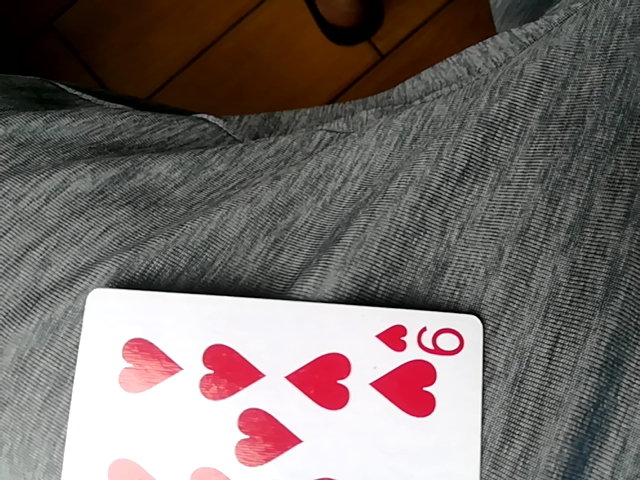hx 9: (61, 286, 487, 478)
